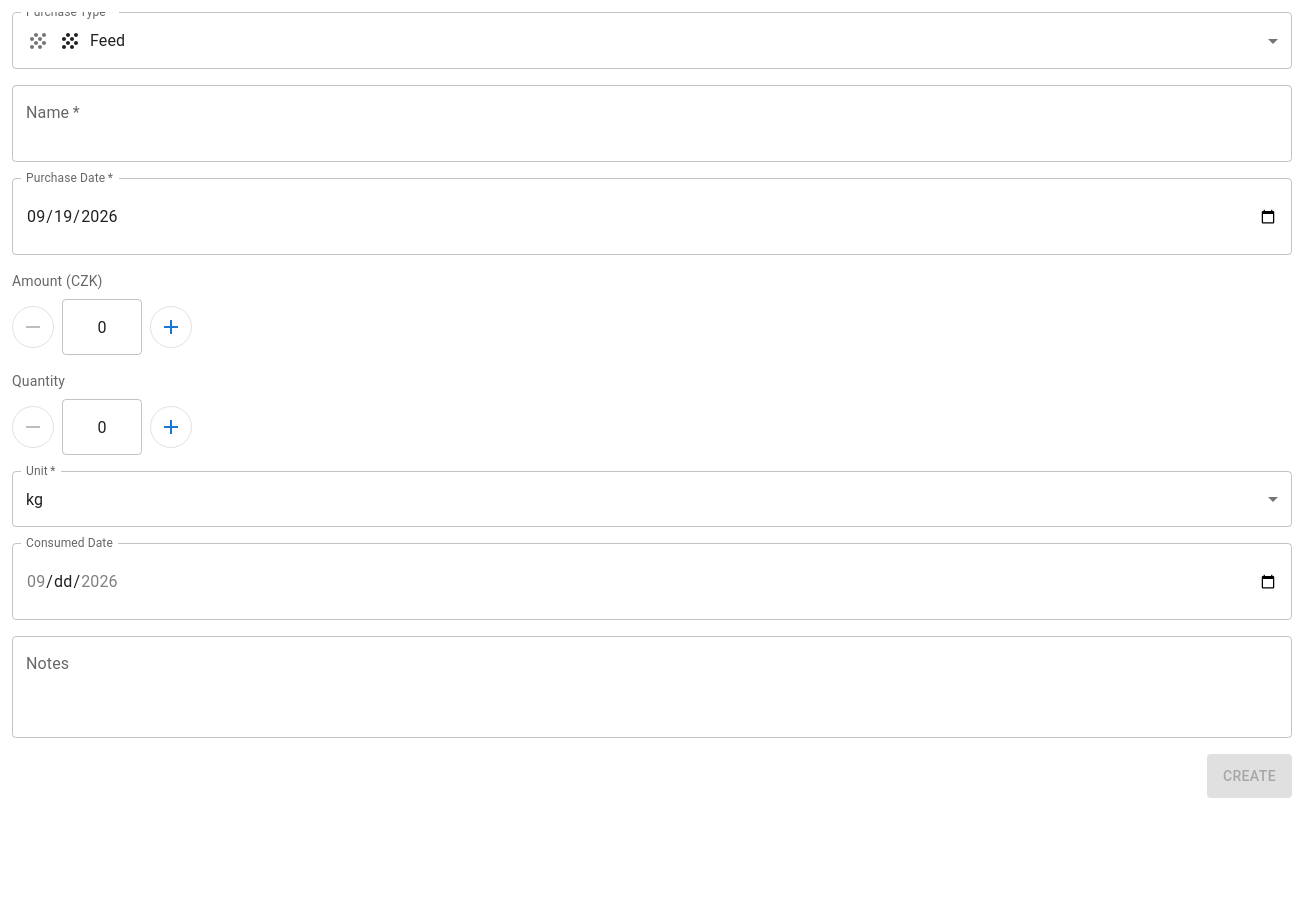
PurchaseForm › Autocomplete › should show autocomplete suggestions for name field
The width and height of the screenshot is (1304, 912).
# Type to trigger autocomplete
Type "Kr" into the dropdown labelled "Name *" at [637, 124], box [21, 94, 1253, 153]
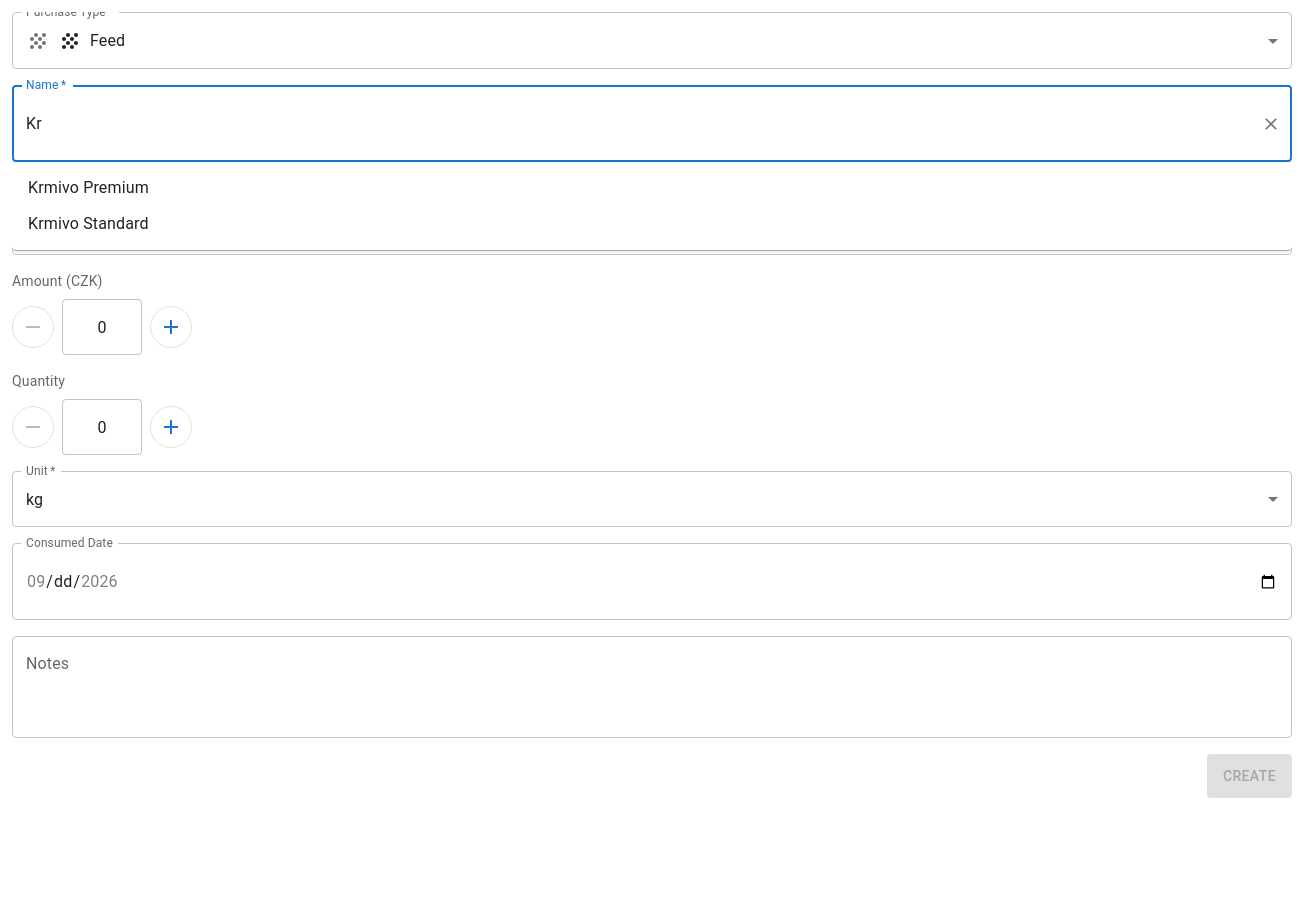
expect the option "Krmivo Premium" is shown: met, box [28, 178, 149, 197]
expect the option "Krmivo Standard" is shown: met, box [28, 214, 149, 233]
